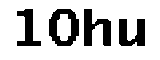0: (47, 4, 80, 50)
1: (12, 3, 44, 50)
h: (82, 2, 112, 52)
u: (111, 12, 150, 51)
